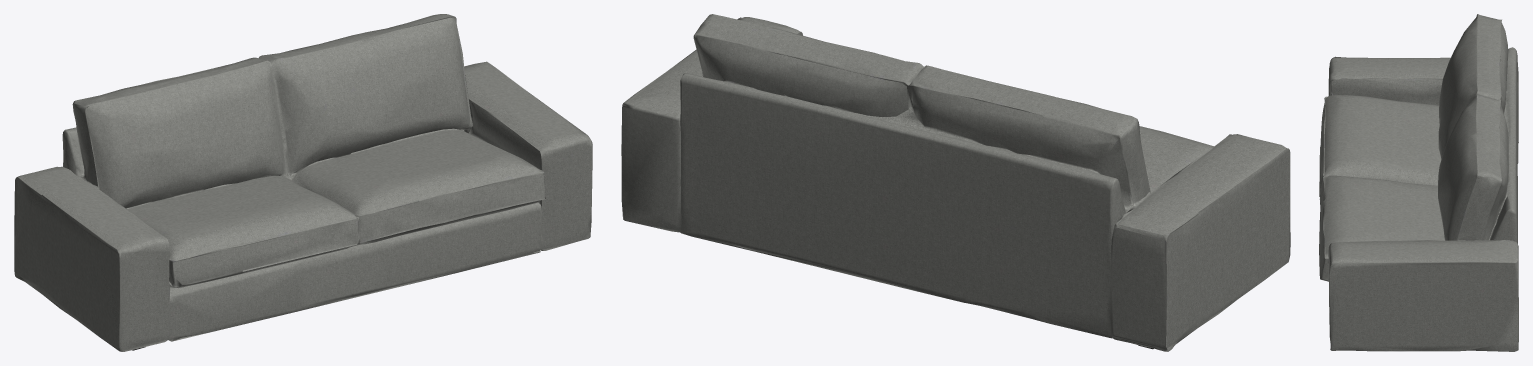
Rendered from ikea-kivik-sofa.glb.
The picture shows the model from 3 angles, left to right: view 1: azimuth 30°, elevation 25°; view 2: azimuth 150°, elevation 25°; view 3: azimuth 270°, elevation 25°; orthographic projection. The views are drawn at different scales.
Visible parts, largest first — view 1: ProcessedMeshNode; view 2: ProcessedMeshNode; view 3: ProcessedMeshNode.
Boxes of the visible parts, <box> form: ProcessedMeshNode: <box>14,14,592,351</box>; ProcessedMeshNode: <box>621,14,1290,351</box>; ProcessedMeshNode: <box>1319,14,1518,351</box>.
Bounding box in the file's own units: 2.29 × 0.8451 × 0.9447.
Materials: 1 (1 with a texture image).
